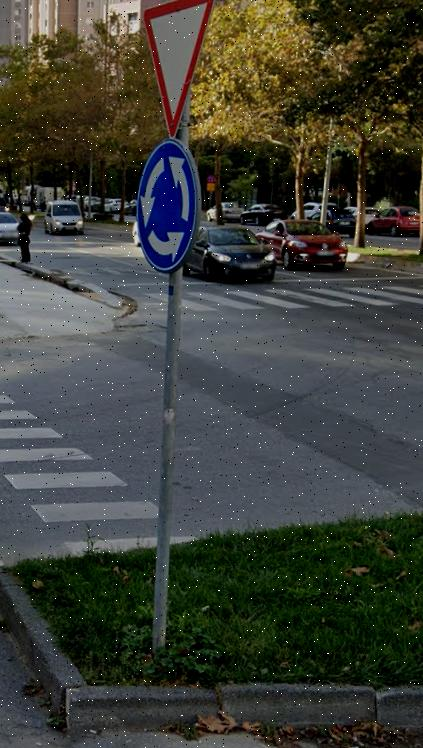crossroads: (136, 140, 199, 266)
